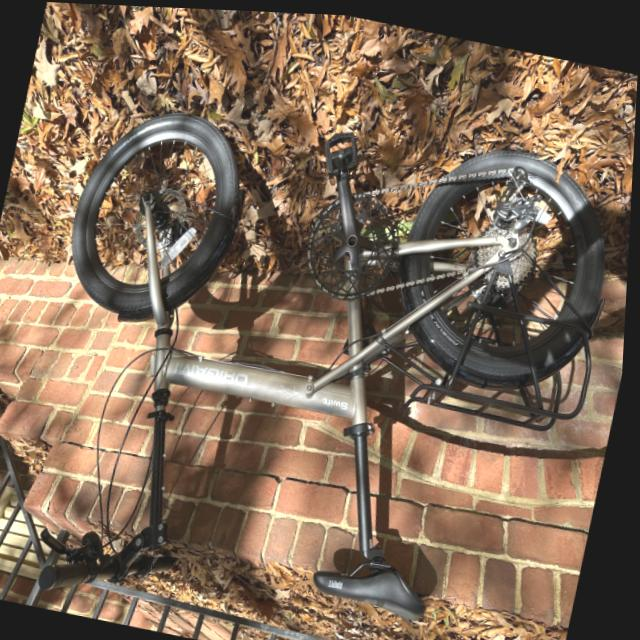folding-bike: (1, 59, 638, 640)
